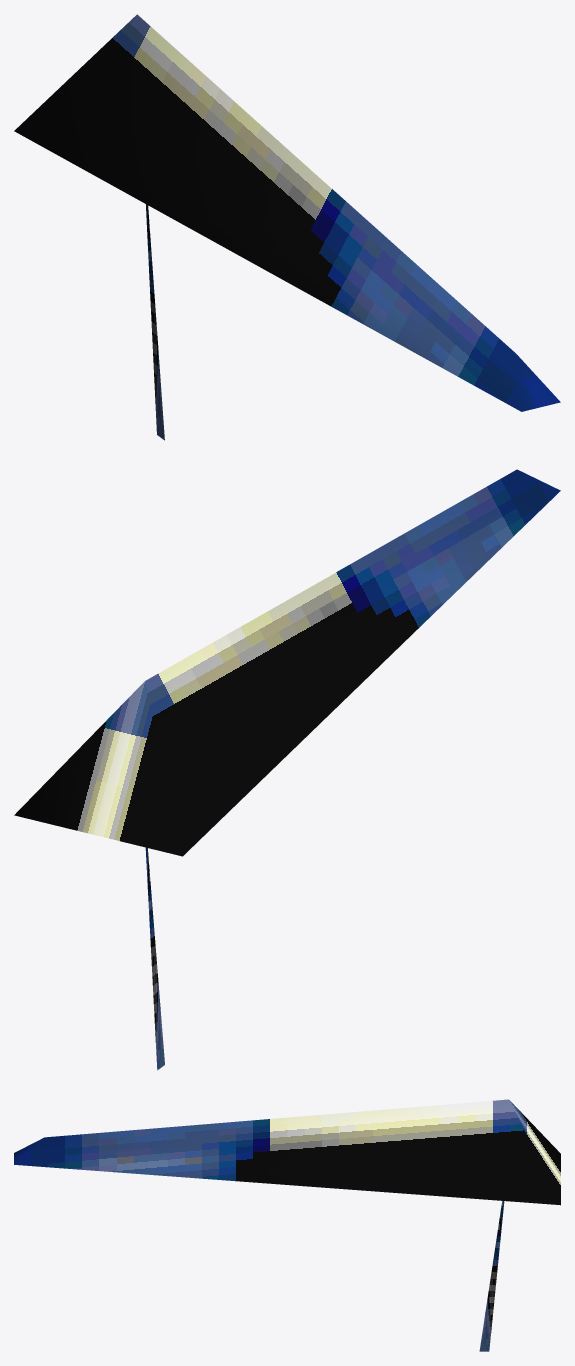
The picture shows the model from 3 angles, top to bottom: view 1: azimuth 30°, elevation 25°; view 2: azimuth 150°, elevation 25°; view 3: azimuth 270°, elevation 25°; orthographic projection. The views are drawn at different scales.
Parts seen in each view (by area): view 1: d2942674, a4c25c14; view 2: d2942674, a4c25c14; view 3: d2942674, a4c25c14.
Boxes of the visible parts, x1,y1,x2,y2 form: d2942674: (14, 14, 560, 411); a4c25c14: (146, 204, 164, 440); d2942674: (14, 469, 560, 856); a4c25c14: (145, 847, 164, 1070); d2942674: (14, 1099, 560, 1205); a4c25c14: (479, 1201, 504, 1351).
Bounding box in the file's own units: 3.11 × 7.09 × 14.01.
2 materials, 2 textured.
